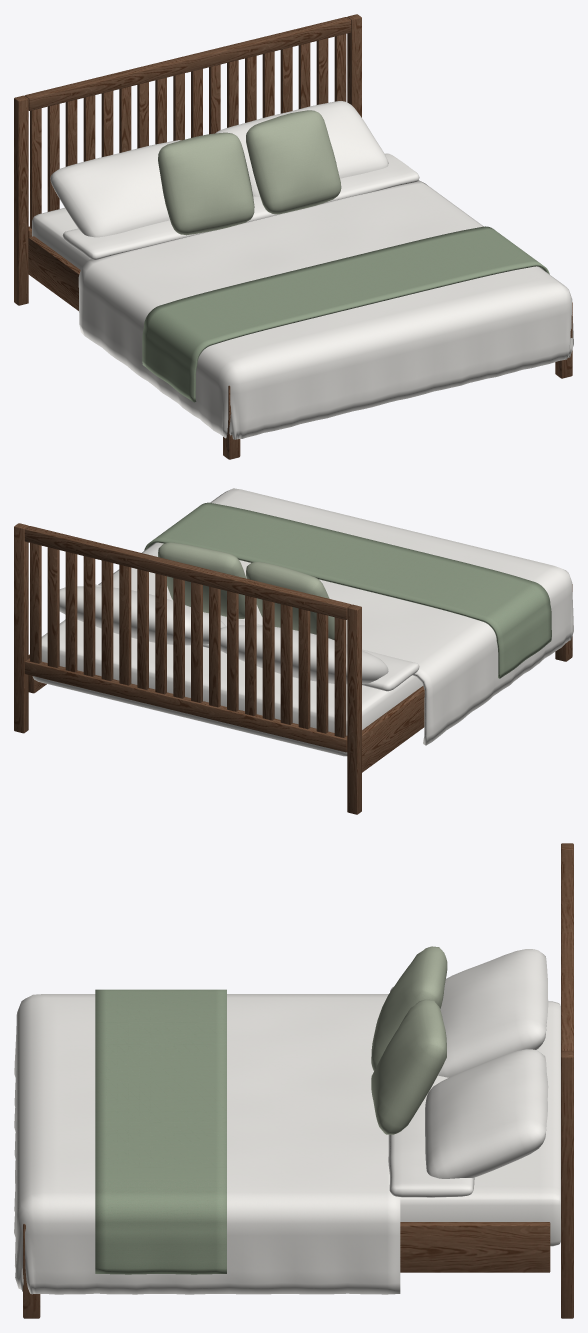
File: cama_listones_180.glb
The picture shows the model from 3 angles, top to bottom: view 1: azimuth 30°, elevation 25°; view 2: azimuth 150°, elevation 25°; view 3: azimuth 270°, elevation 25°; orthographic projection. The views are drawn at different scales.
Parts seen in each view (by area): view 1: cama_listones_180; view 2: cama_listones_180; view 3: cama_listones_180.
Boxes of the visible parts, x1=… form: cama_listones_180: x1=14, y1=14, x2=573, y2=459; cama_listones_180: x1=14, y1=488, x2=573, y2=814; cama_listones_180: x1=14, y1=843, x2=573, y2=1318.
Size of the model in its own units: 2.02 by 1.1 by 2.13.
4 materials, 4 textured.
